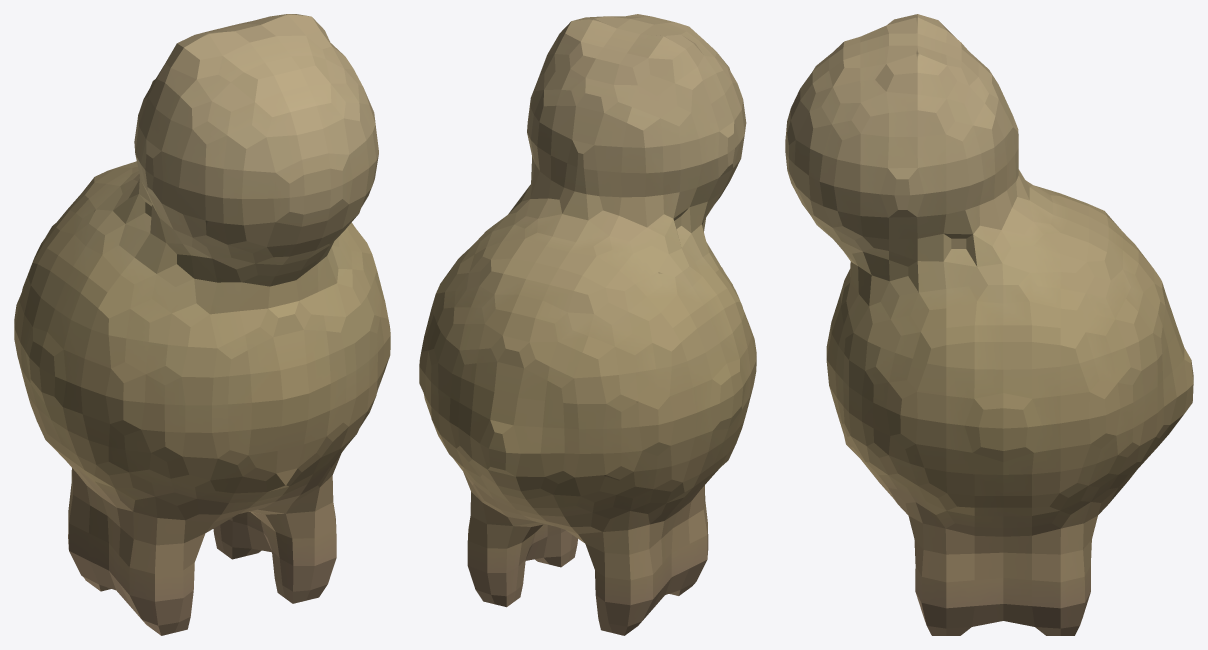
The model's file is mouseSummon.glb.
3 views of the same model, side by side, from view 1: azimuth 30°, elevation 25°; view 2: azimuth 150°, elevation 25°; view 3: azimuth 270°, elevation 25° (orthographic). The views are drawn at different scales.
Parts seen in each view (by area): view 1: geometry_0; view 2: geometry_0; view 3: geometry_0.
Part boxes in pixels (x1,y1,x2,y2): geometry_0: (14, 14, 390, 635); geometry_0: (419, 14, 756, 635); geometry_0: (785, 14, 1193, 635).
Size of the model in its own units: 0.5169 by 0.9077 by 0.5949.
1 material, 1 textured.
